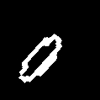chain: (19, 34, 61, 82)
